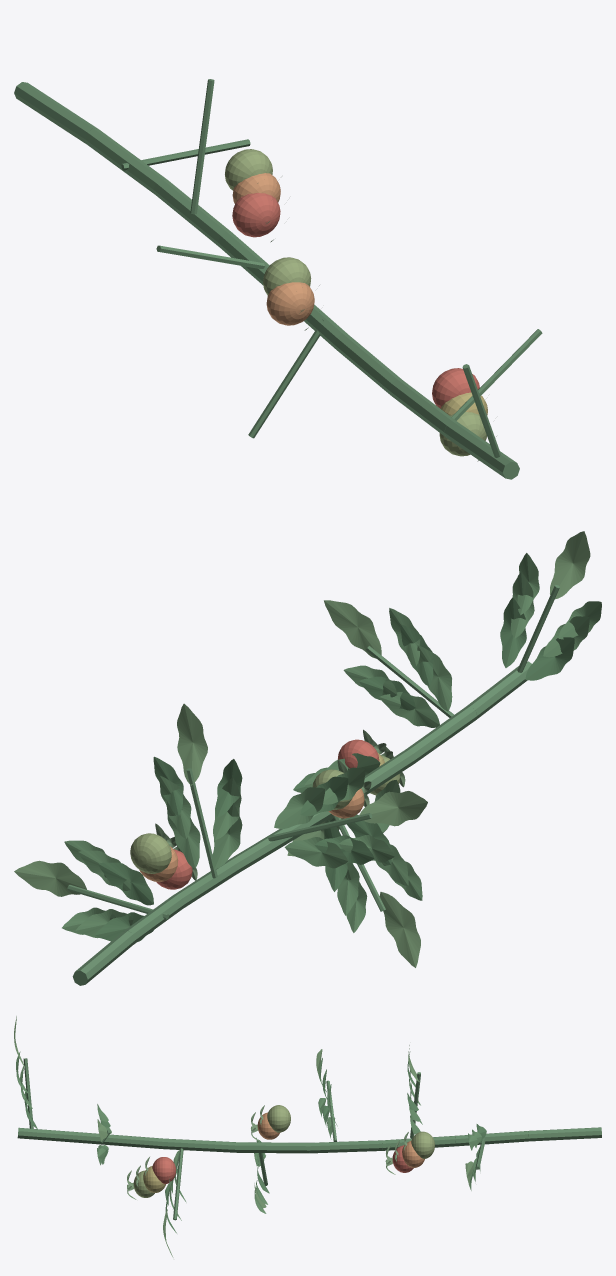
The model's file is tomato_a.glb.
3 renders of one model, top to bottom at view 1: azimuth 30°, elevation 25°; view 2: azimuth 150°, elevation 25°; view 3: azimuth 270°, elevation 25°, orthographic. The views are drawn at different scales.
Visible parts, largest first — view 1: Stem, FruitGreen, FruitMid, FruitRed; view 2: Leaves, Stem, FruitGreen, FruitRed, FruitMid, Calyx; view 3: Stem, Leaves, FruitGreen, FruitMid, FruitRed, Calyx.
Boxes of the visible parts, x1,y1,x2,y2 form: Stem: (14, 79, 542, 479); FruitGreen: (225, 149, 486, 456); FruitMid: (232, 173, 487, 415); FruitRed: (232, 193, 479, 408); Leaves: (14, 531, 601, 967); Stem: (67, 585, 559, 985); FruitGreen: (130, 755, 400, 873); FruitRed: (156, 739, 379, 889); FruitMid: (139, 752, 384, 881); Calyx: (155, 729, 405, 880); Stem: (17, 1058, 601, 1220); Leaves: (14, 1016, 486, 1257); FruitGreen: (133, 1105, 434, 1197); FruitMid: (143, 1112, 424, 1192); FruitRed: (152, 1145, 413, 1184); Calyx: (127, 1105, 408, 1199).
Bounding box in the file's own units: 0.6378 × 0.6346 × 1.61.
